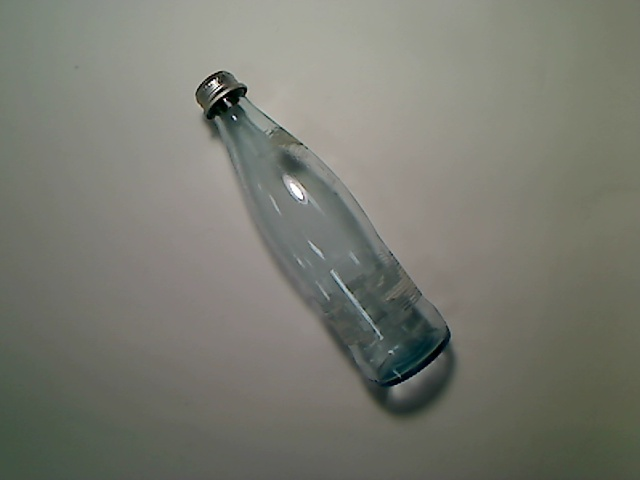bottle: (196, 69, 451, 389)
